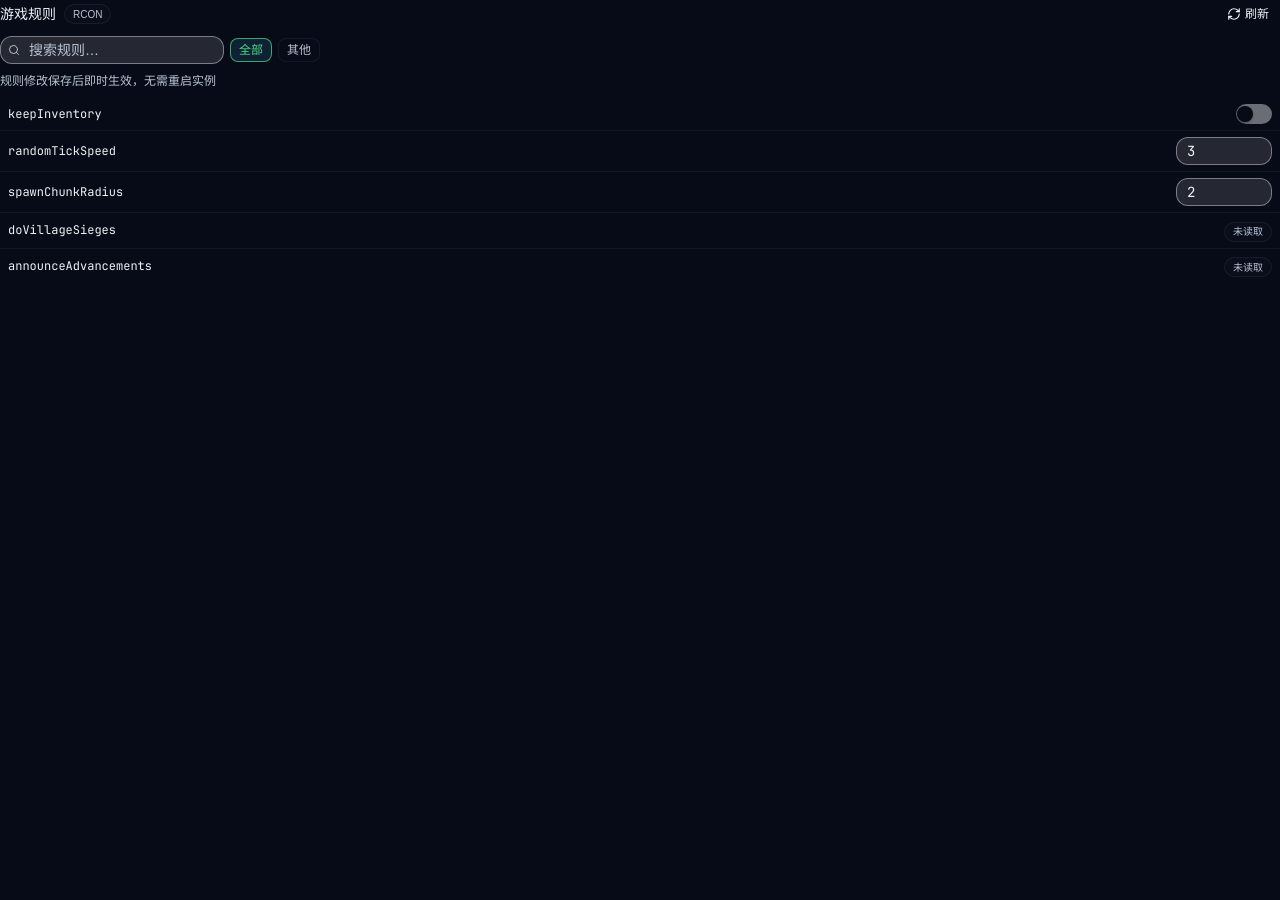
GamerulePanel 三态渲染 › unreadable：同样灰标禁用，但原因文案与 missing 不同
Expected: the text "announceAdvancements" is shown, [8,258,152,274]
Click the button "未读取" in the row of "announceAdvancements" at (1248,266), box [1224,254,1272,277]
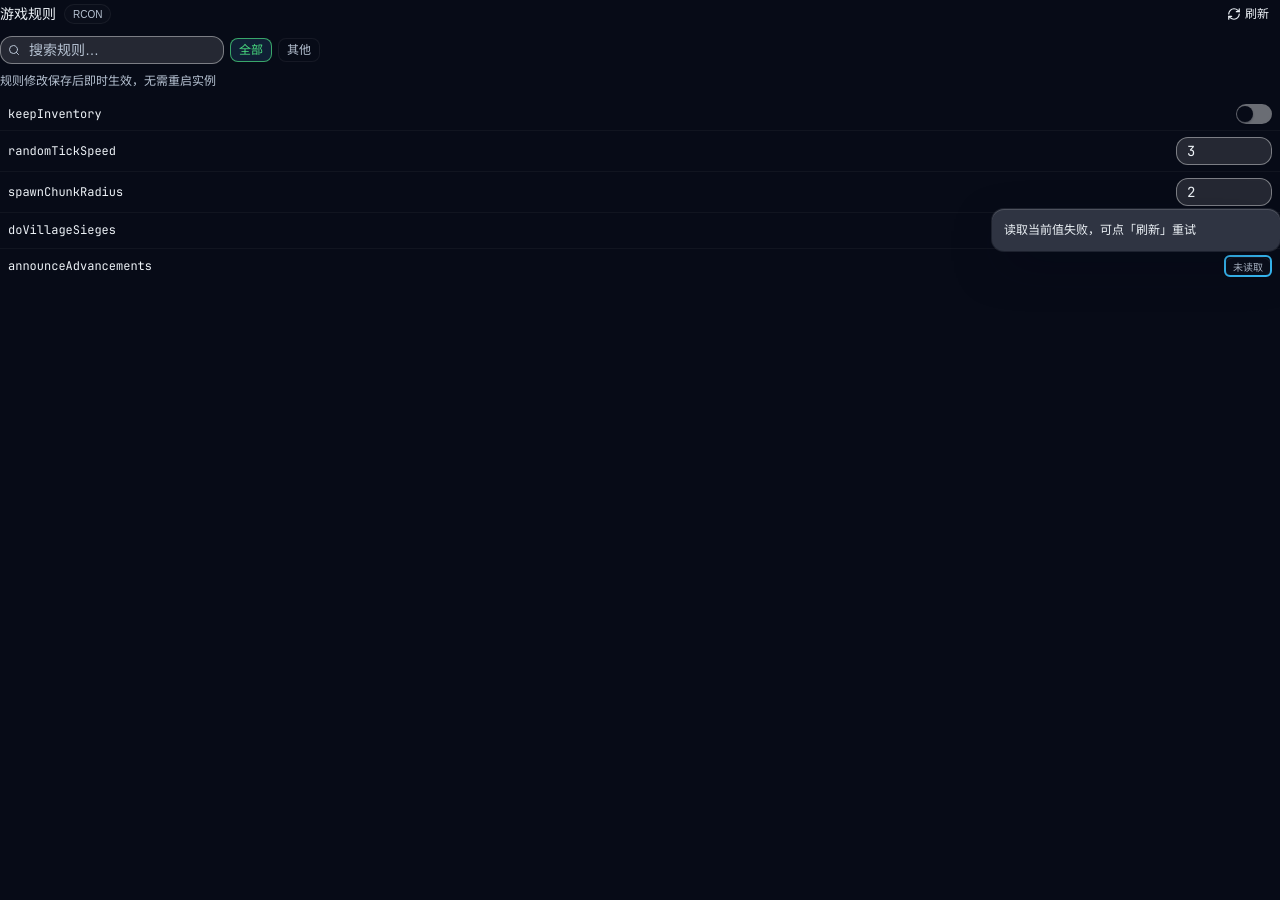
Expected: the dialog named "announceAdvancements 未读取原因" reads "读取当前值失败，可点「刷新」重试", [1004,223,1196,237]
